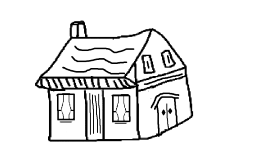chimney: (66, 15, 90, 44)
door: (82, 82, 108, 147), (149, 90, 183, 139)
open_window: (110, 92, 134, 126), (56, 92, 77, 124)
roof: (35, 28, 186, 89)
wall: (46, 71, 141, 145)
